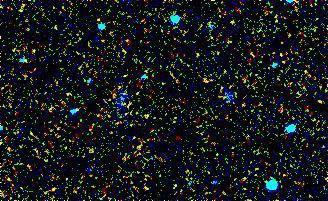star: (83, 6, 113, 36)
